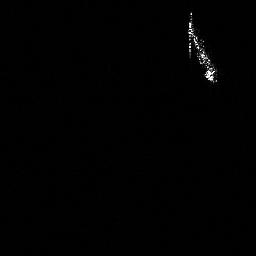ship: (183, 10, 223, 85)
